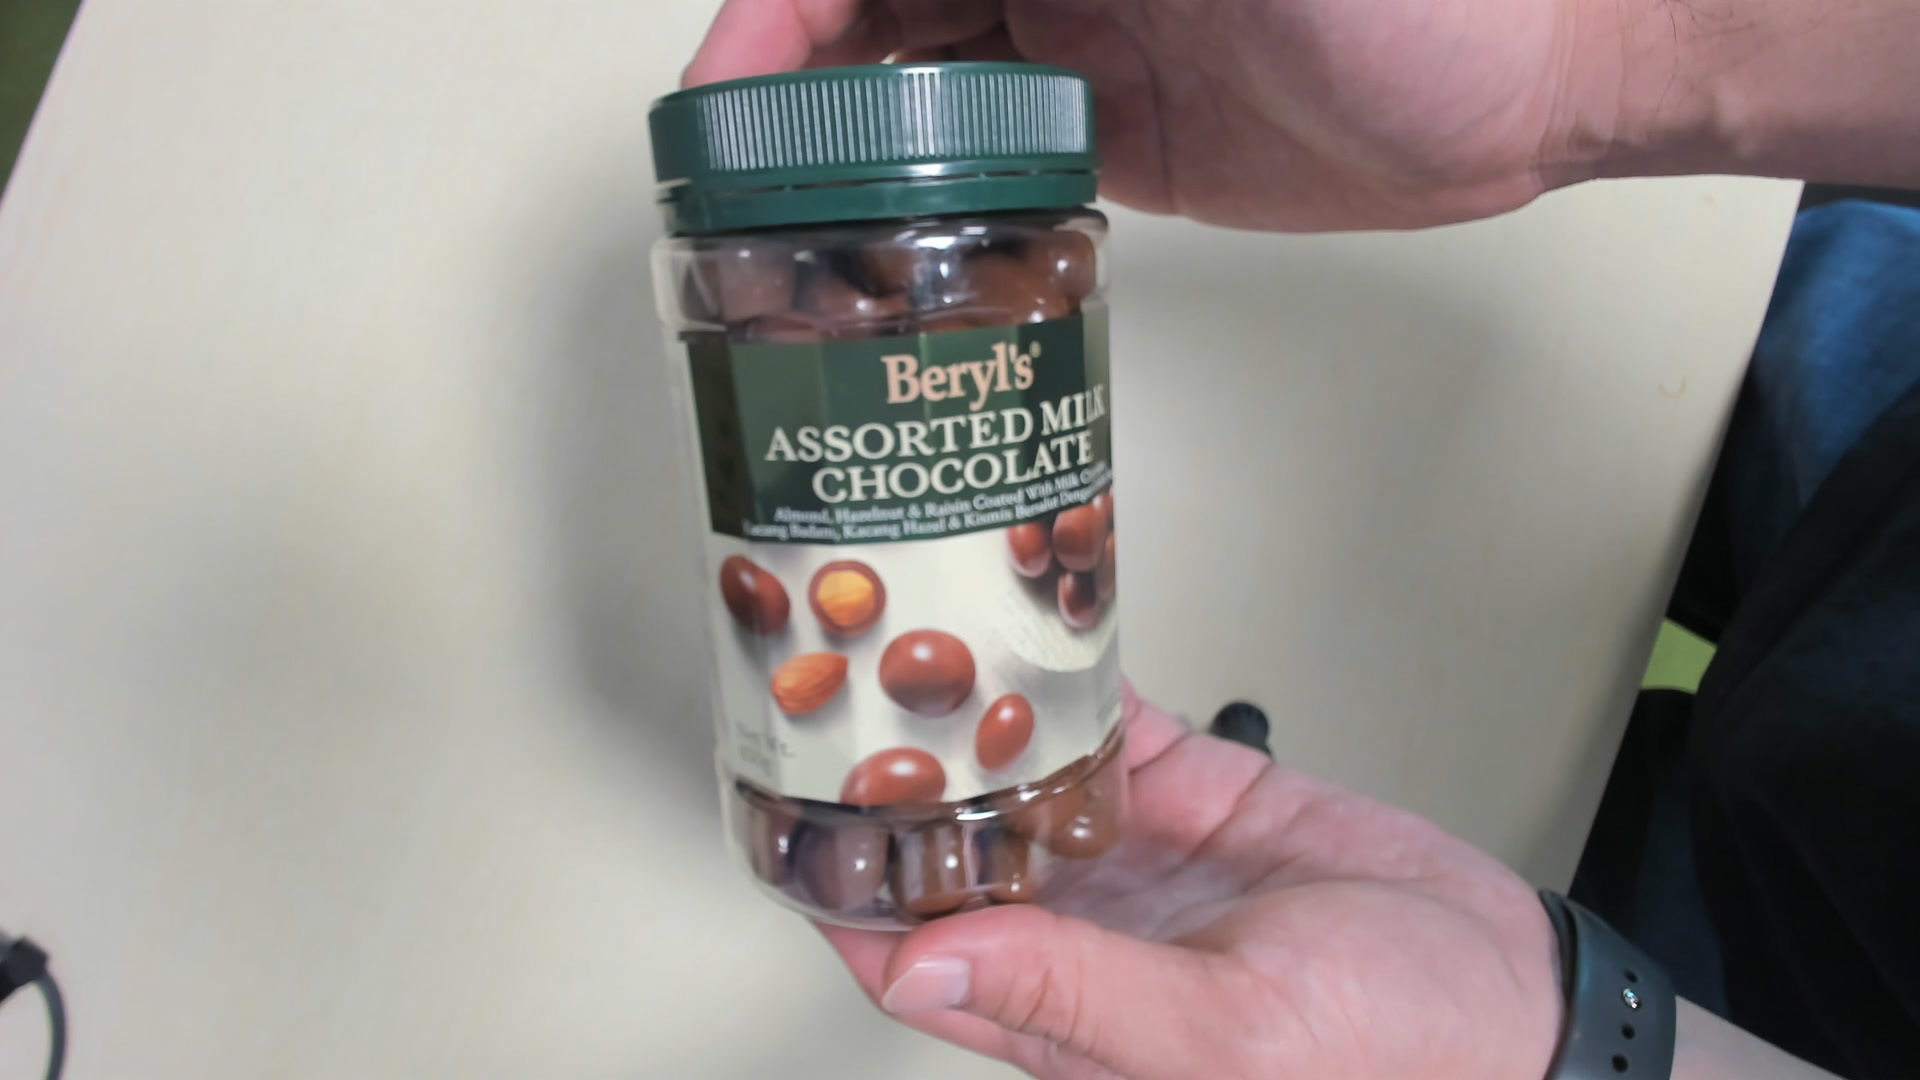SweetsChocolatesOthers_400-499g_Halal_Nonhealthy: (650, 73, 1135, 922)
